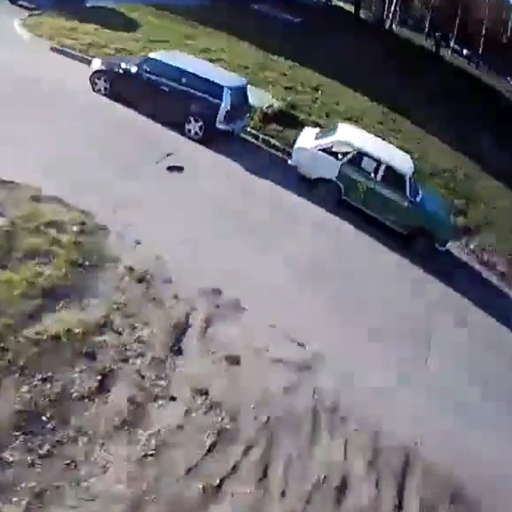Car: (289, 118, 455, 256), (92, 48, 251, 141)
